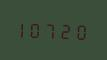one: (18, 18, 31, 39)
seven: (46, 19, 59, 40)
two: (60, 20, 73, 40)
zero: (74, 20, 87, 41), (32, 19, 45, 39)
